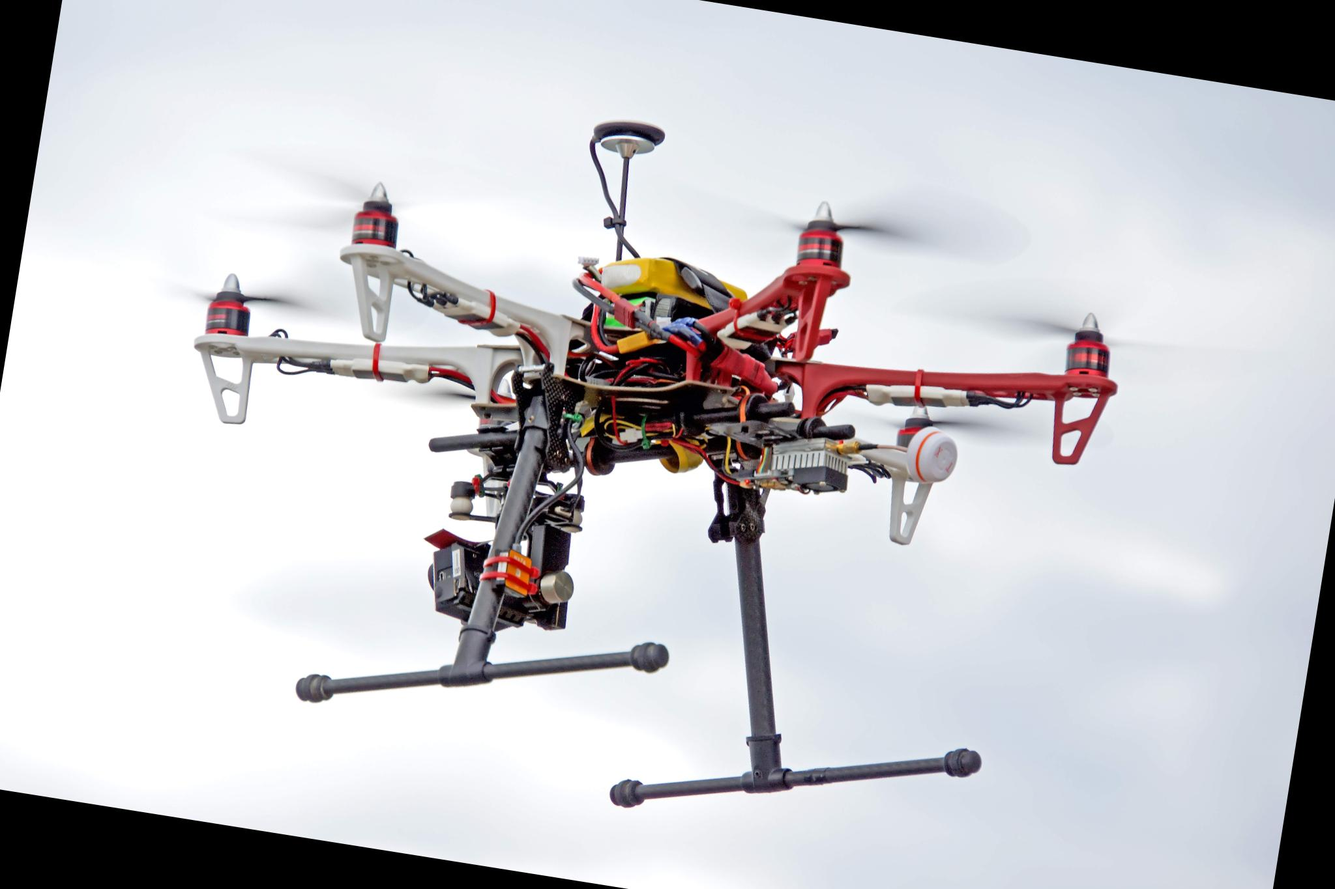drone: (118, 82, 1219, 645)
